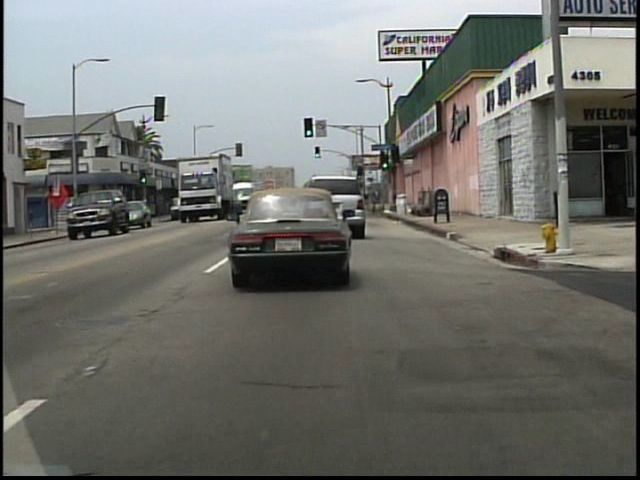person: (78, 204, 89, 228)
